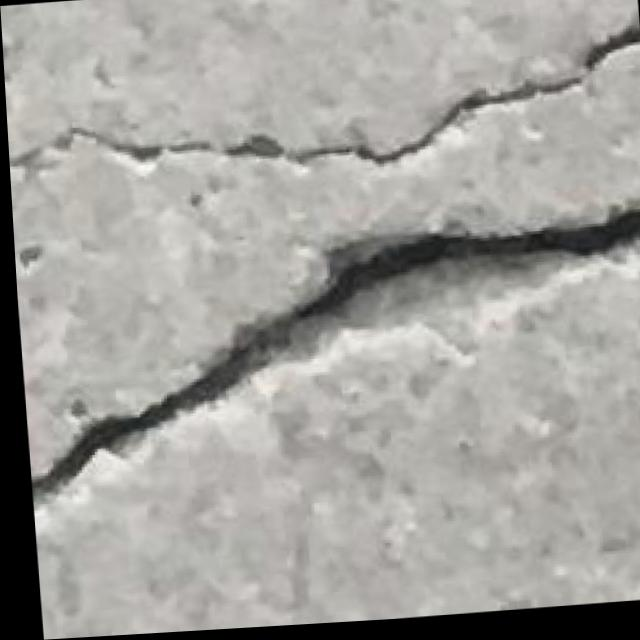Crack: (14, 221, 640, 524), (2, 22, 640, 206)
